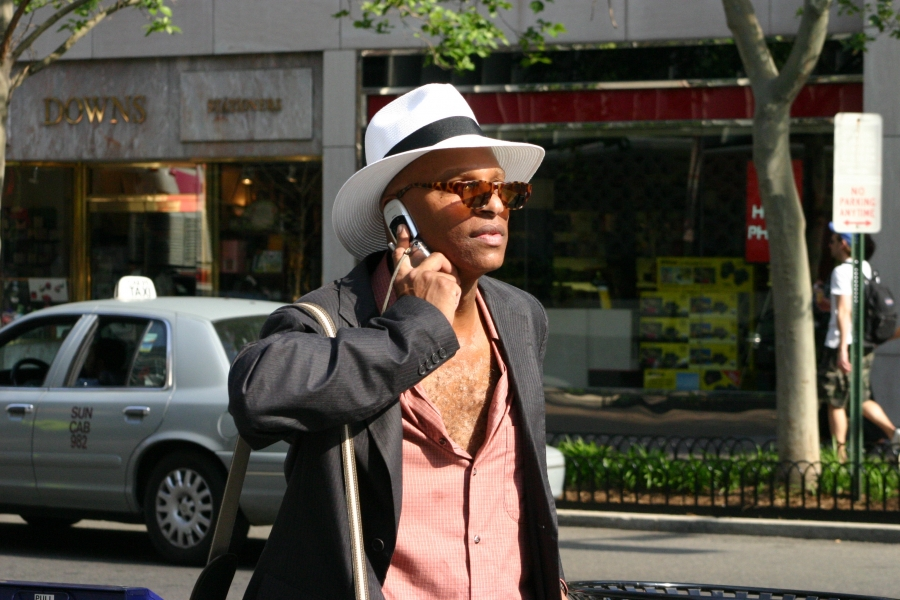phone: (382, 194, 463, 299)
talk: (374, 161, 512, 308)
